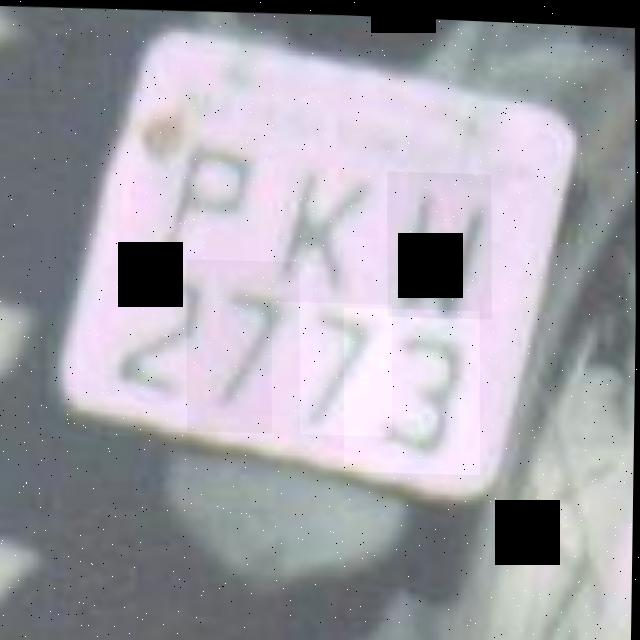2: (85, 241, 223, 421)
3: (342, 302, 483, 472)
7: (185, 255, 303, 433), (271, 296, 394, 434)
B: (386, 166, 494, 316)
P: (150, 126, 261, 264)
